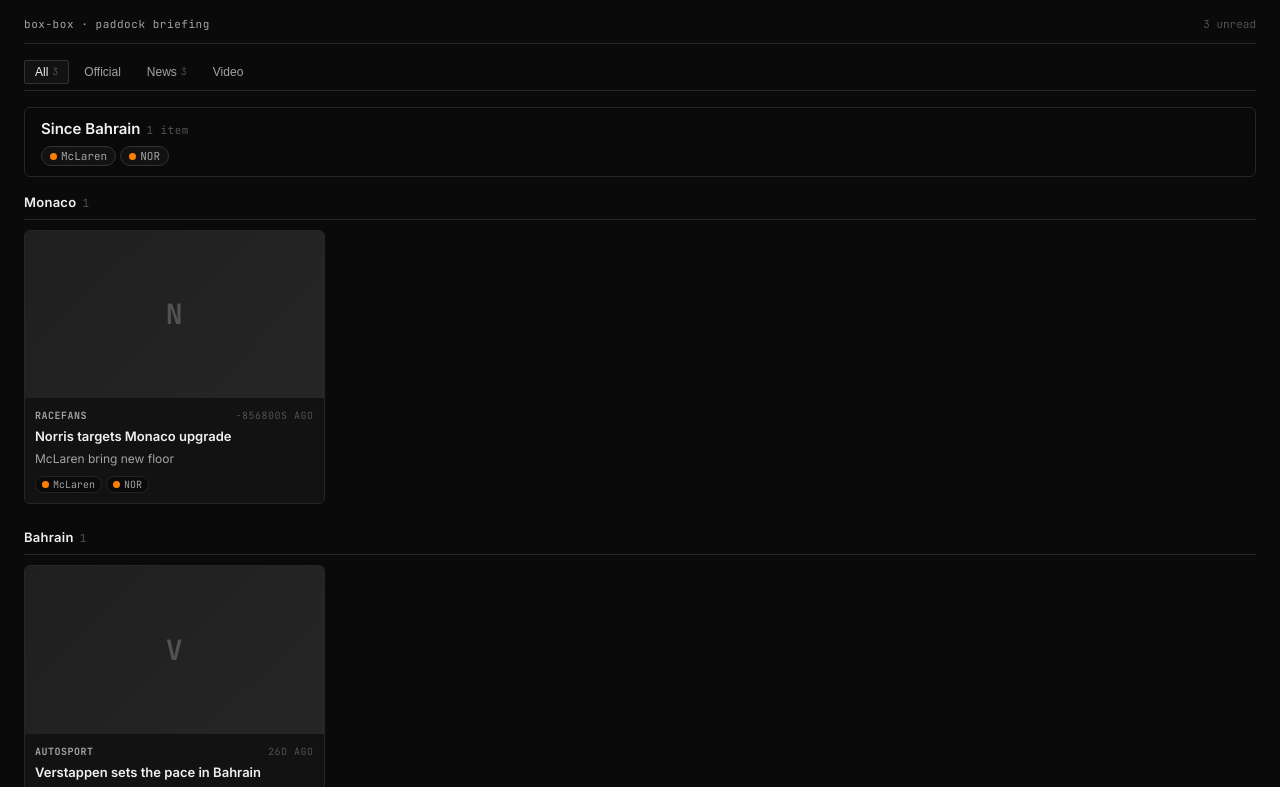
Test case: BriefingPage digest layout › filters the digest when a tag chip is clicked
Check: the element with test id "digest-sticky-header" is shown, box [24, 106, 1256, 177]
Click the button "NOR" below "Since" at (145, 156), box [120, 146, 169, 166]
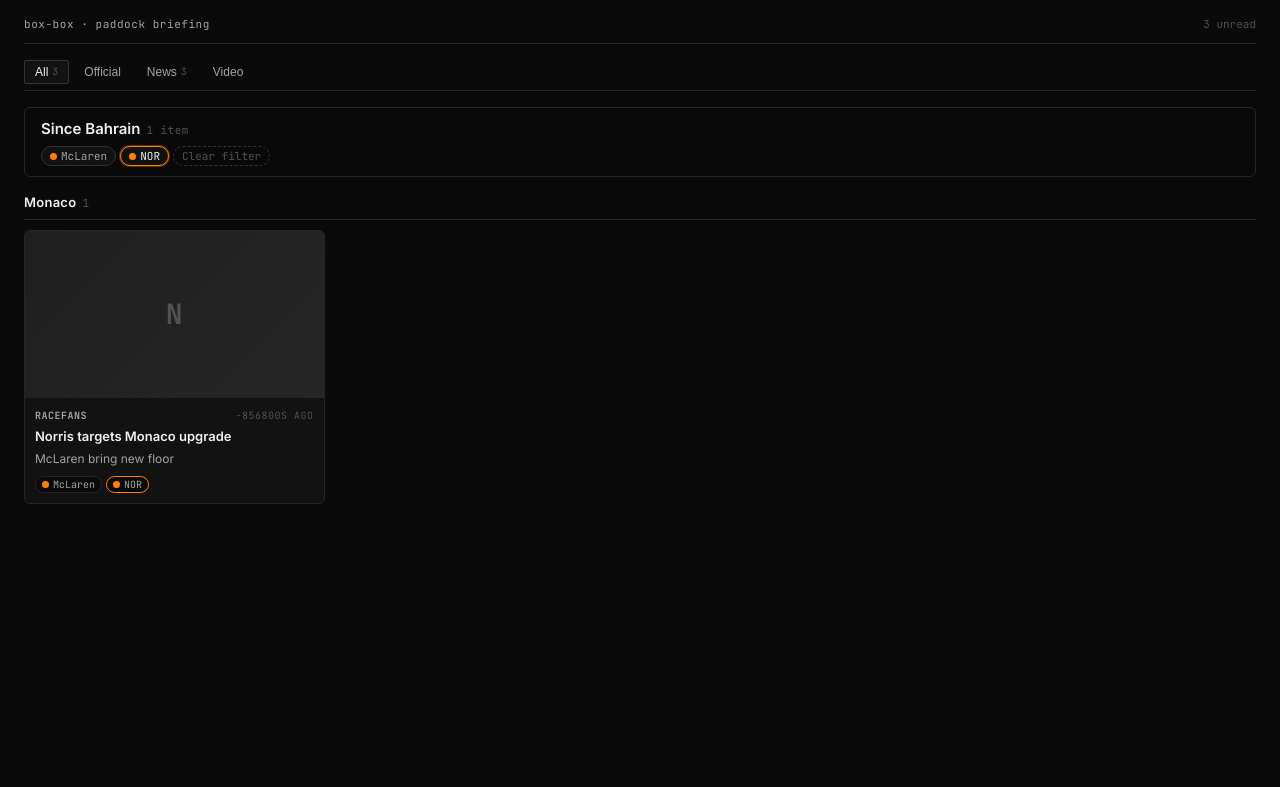
Check: the heading "Norris targets Monaco upgrade" is shown, box [35, 428, 232, 444]
Check: the button "Verstappen sets the pace in Bahrain" is gone
Check: the button with test id "digest-filter-clear" is shown
Click the button with test id "digest-filter-clear" at (222, 156), box [173, 146, 270, 166]
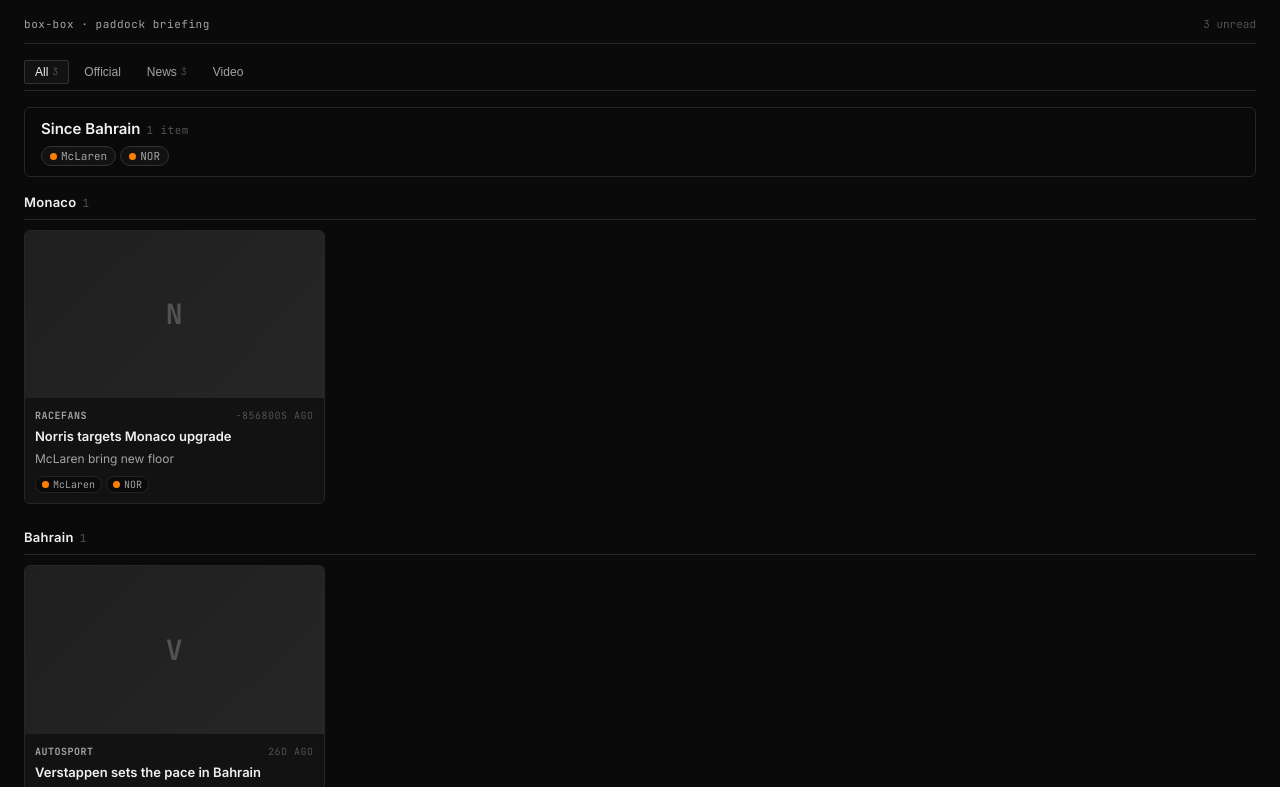
Check: the heading "Verstappen sets the pace in Bahrain" is shown, box [35, 764, 261, 780]
